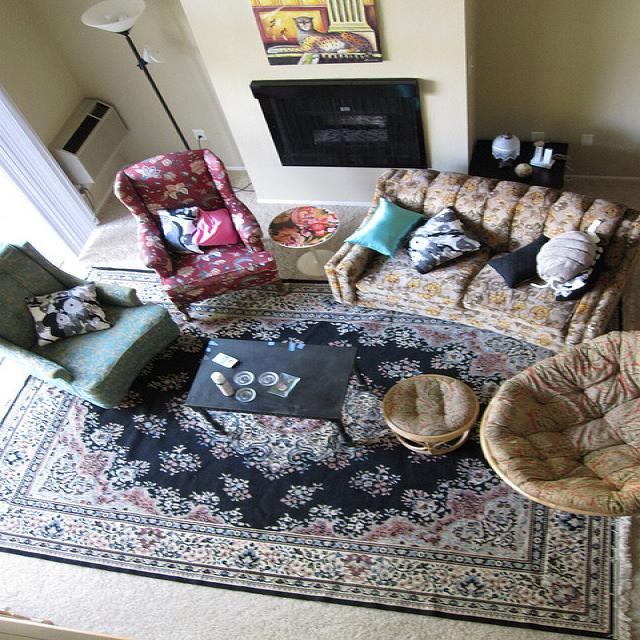chair: (477, 325, 640, 520), (0, 240, 182, 409), (115, 154, 270, 319)
dining table: (185, 334, 389, 449)
